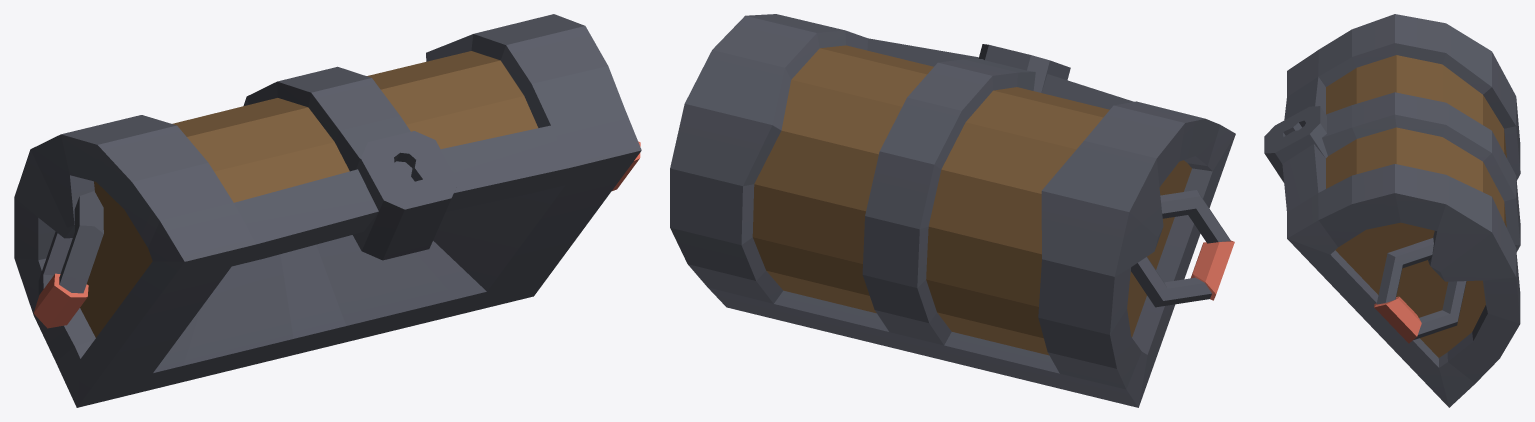
Rendered from Chest_02.fbx.
The picture shows the model from 3 angles, left to right: view 1: azimuth 30°, elevation 25°; view 2: azimuth 150°, elevation 25°; view 3: azimuth 270°, elevation 25°; orthographic projection. The views are drawn at different scales.
Visible parts, largest first — view 1: Chest_02; view 2: Chest_02; view 3: Chest_02.
Part boxes in pixels (<box>): Chest_02: <box>14,14,641,407</box>; Chest_02: <box>670,14,1235,407</box>; Chest_02: <box>1264,14,1520,407</box>.
Bounding box in the file's own units: 1.94 × 0.9256 × 0.9732.
